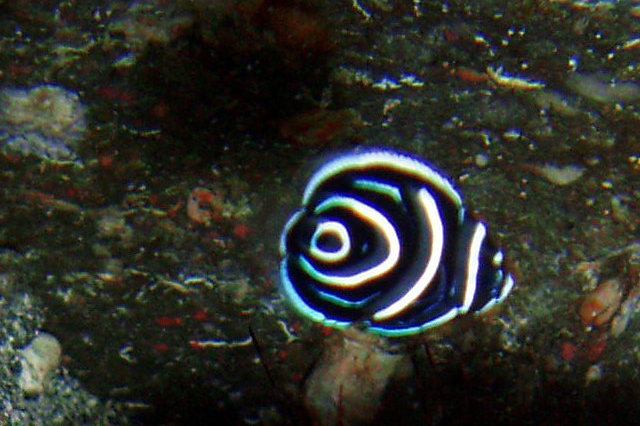Pomacanthus_imperator: (256, 133, 527, 359)
